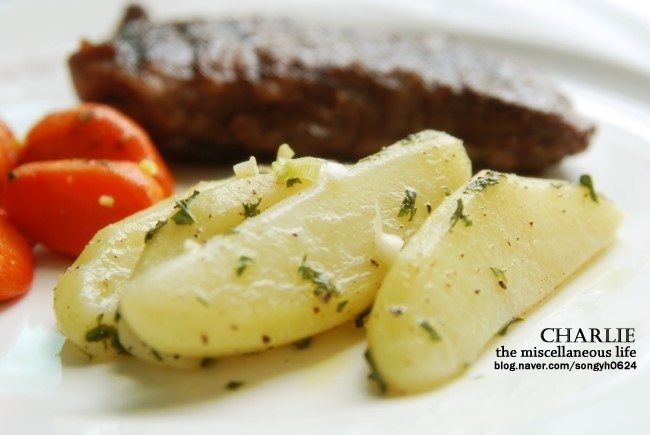boiled potatoes: (87, 176, 536, 332)
